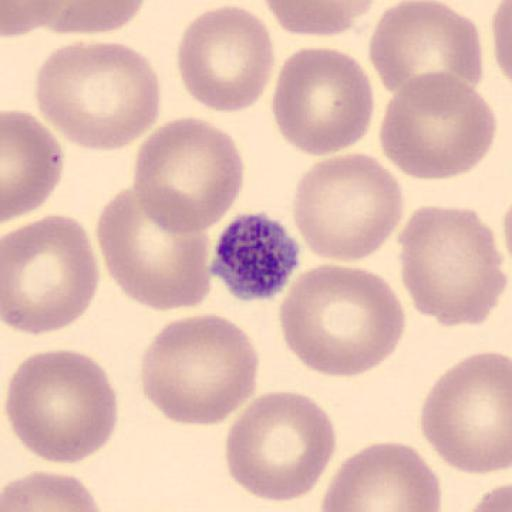Platelet: (207, 209, 304, 304)
RBC: (277, 261, 407, 379), (96, 186, 213, 312), (34, 40, 162, 154), (129, 114, 246, 237), (139, 312, 261, 427), (398, 204, 507, 329), (378, 69, 498, 182), (4, 348, 118, 466), (223, 388, 337, 503), (290, 150, 405, 263), (2, 212, 100, 336), (419, 348, 512, 475), (270, 45, 374, 157), (368, 0, 484, 99), (176, 3, 276, 115), (319, 438, 442, 512), (2, 107, 65, 224), (0, 468, 104, 512), (261, 0, 378, 39), (32, 0, 146, 37), (462, 465, 512, 512), (2, 0, 62, 38), (490, 0, 512, 86), (463, 482, 511, 512)
